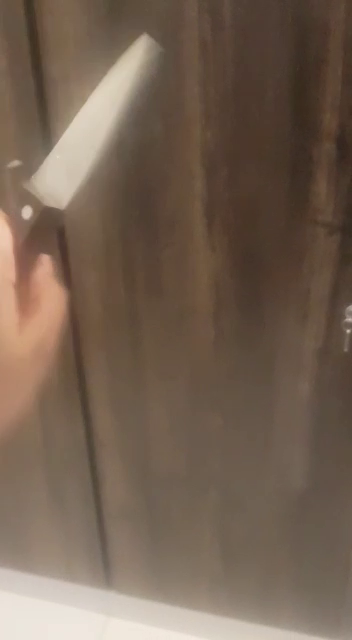knife: (3, 7, 233, 383)
